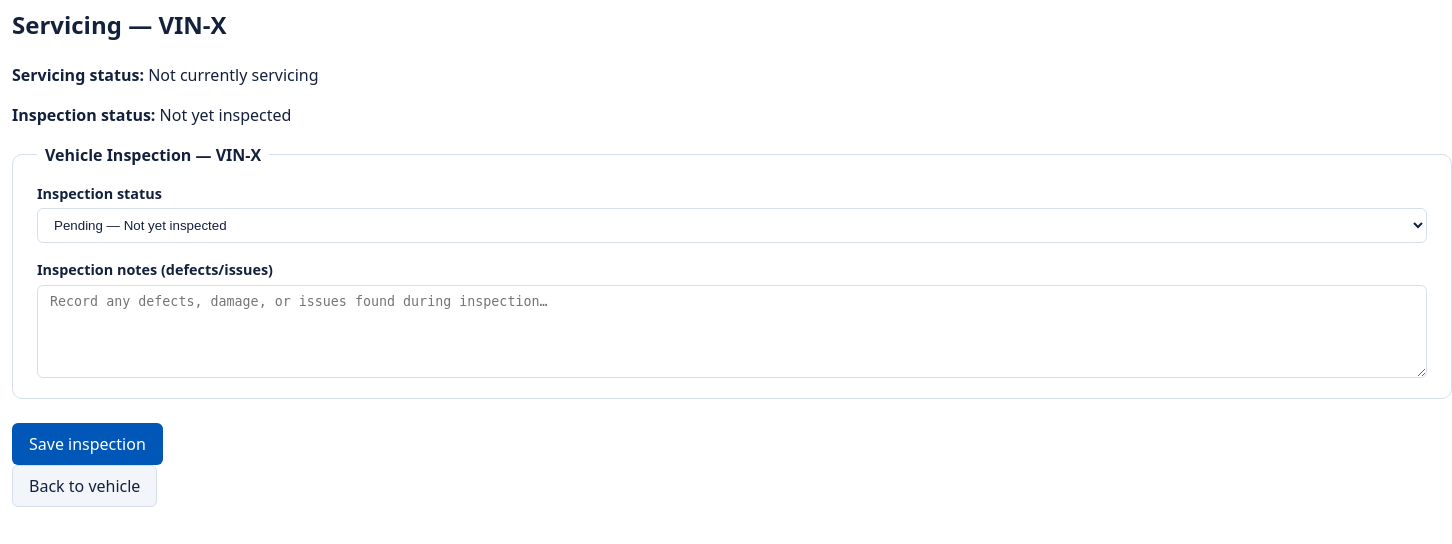
Test: a failed save is reported and nothing is marked as saved
Select "Passed — Ready for convoy" in the dropdown labelled "Inspection status" at (732, 226), box [37,208,1427,243]
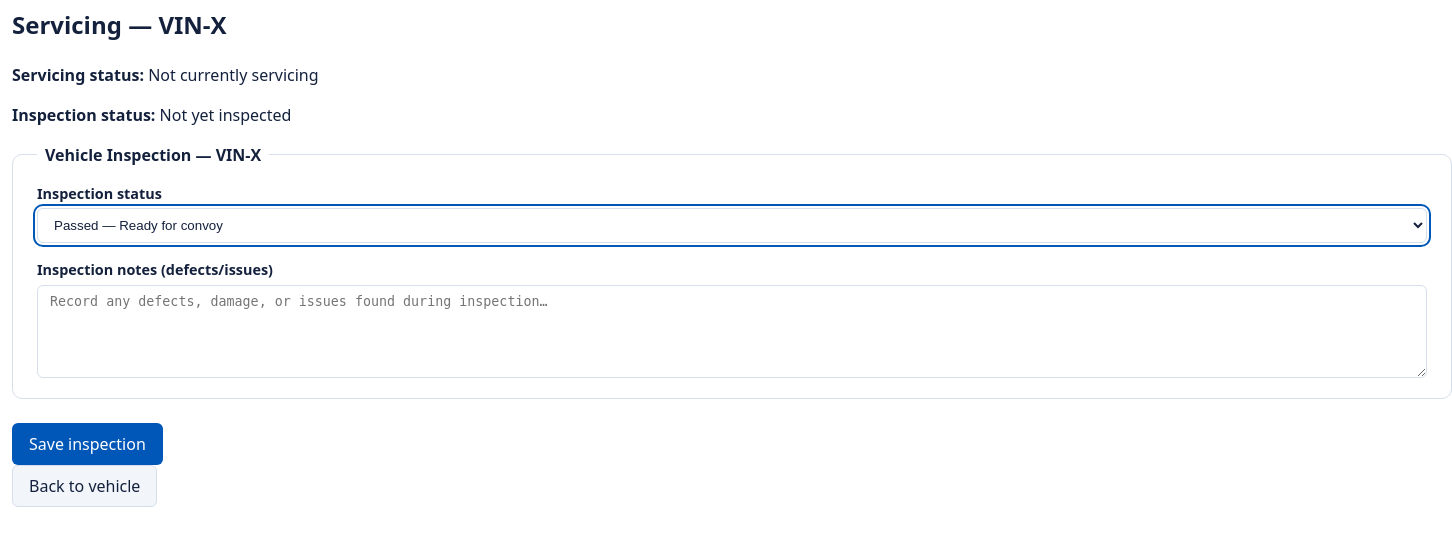
Click the button "Save inspection" at (87, 444), box [12,423,163,465]
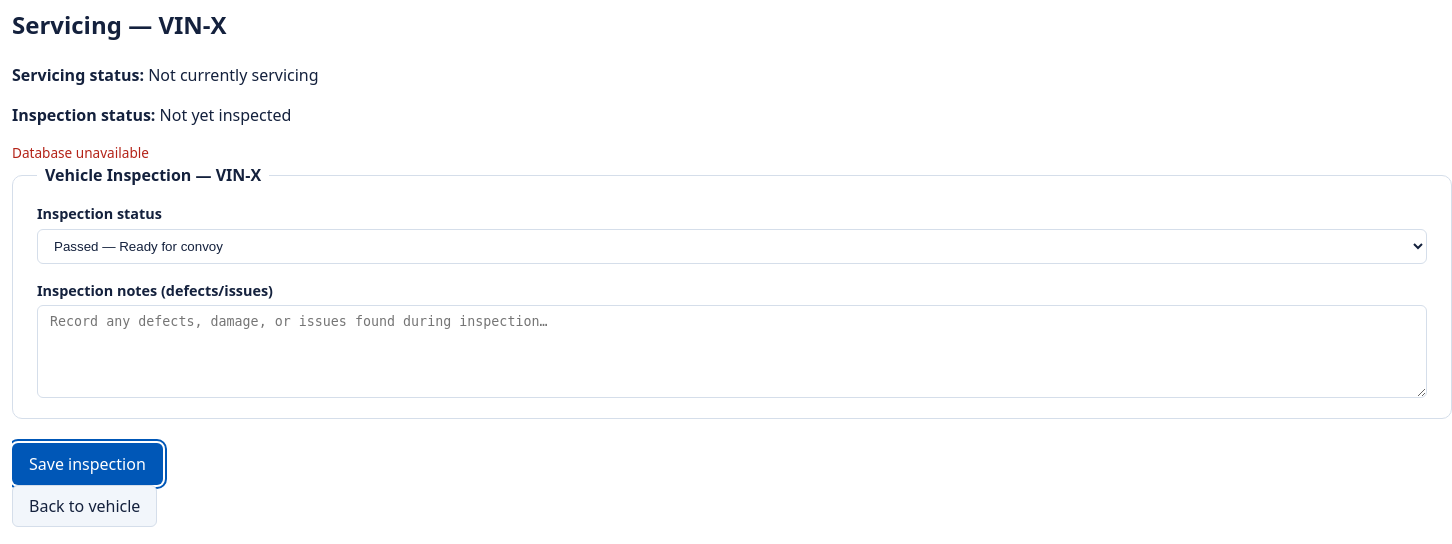
Result: the message reads "Database unavailable" at [12,143,149,162]
